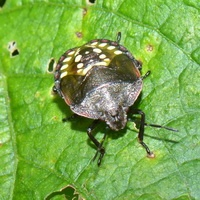insect: (48, 32, 154, 164)
